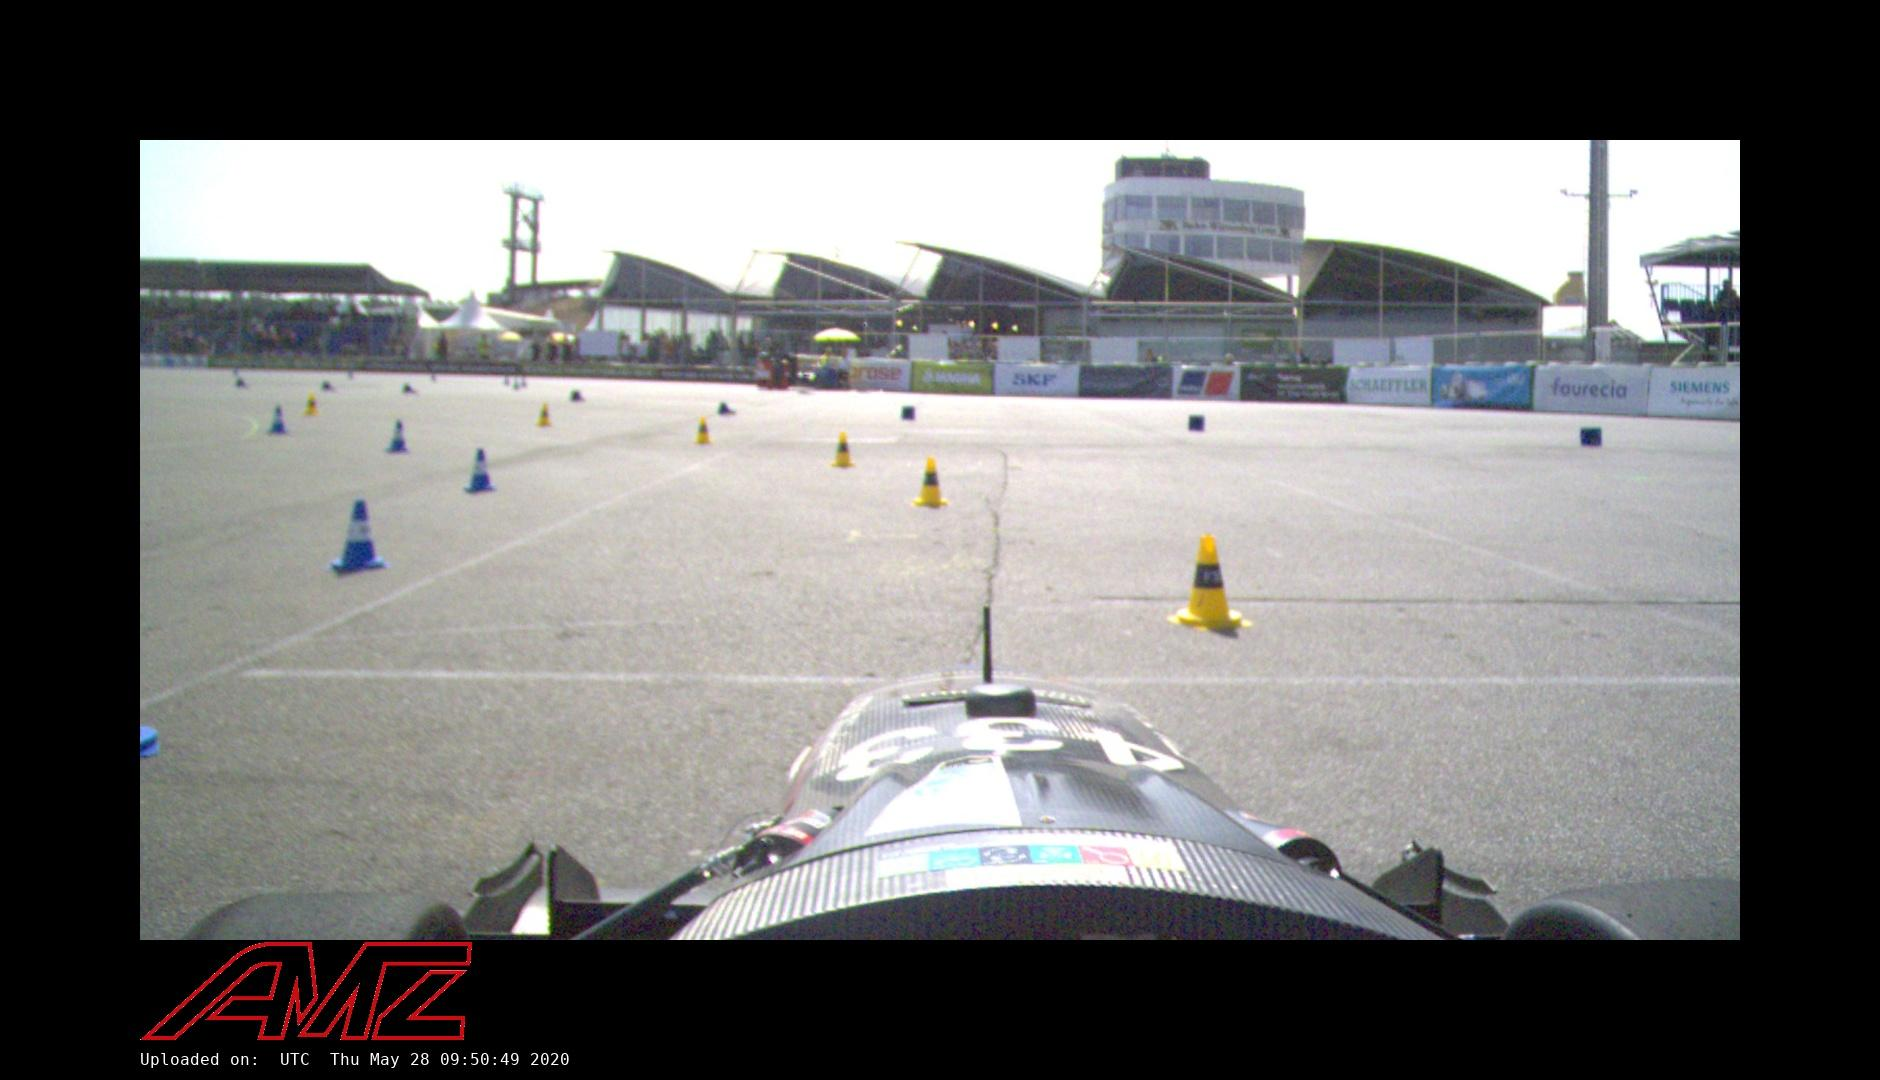blue_cone: (324, 497, 389, 577), (461, 446, 499, 496), (383, 418, 411, 454), (265, 404, 289, 438), (716, 402, 737, 416), (320, 380, 341, 393), (401, 382, 420, 395), (570, 390, 588, 403), (234, 378, 251, 390)
yellow_cone: (1169, 533, 1251, 629), (911, 456, 949, 508), (830, 431, 856, 468), (693, 416, 714, 446), (534, 402, 553, 428), (302, 393, 320, 418)
